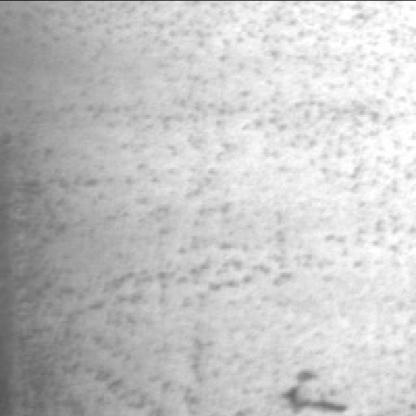pitted_surface: (15, 6, 393, 404)
